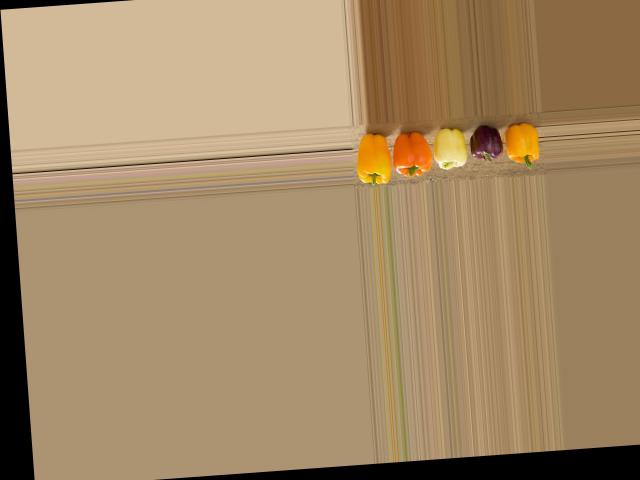bell_pepper: (506, 113, 544, 171)
